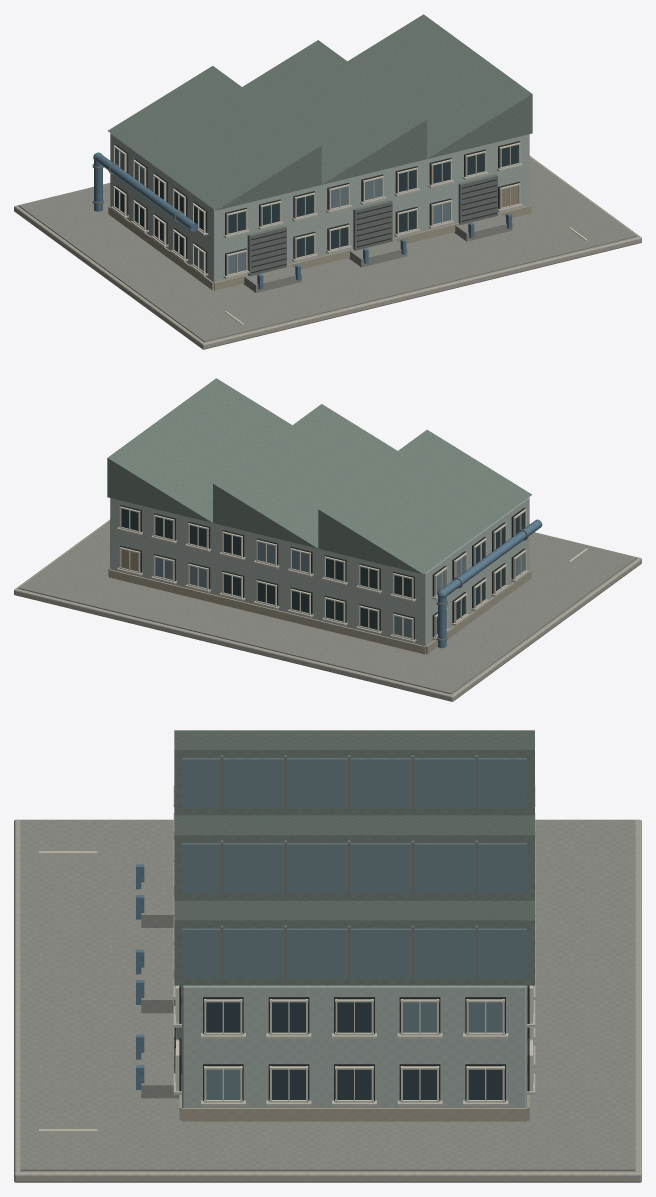
File: EXP_FACTORY_SAW.glb
3 renders of one model, top to bottom at view 1: azimuth 30°, elevation 25°; view 2: azimuth 150°, elevation 25°; view 3: azimuth 270°, elevation 25°, orthographic. The views are drawn at different scales.
Visible parts, largest first — view 1: EXP_FACTORY_SAW_Visual; view 2: EXP_FACTORY_SAW_Visual; view 3: EXP_FACTORY_SAW_Visual.
Boxes of the visible parts, x1,y1,x2,y2 form: EXP_FACTORY_SAW_Visual: (14,14,641,349); EXP_FACTORY_SAW_Visual: (14,378,641,701); EXP_FACTORY_SAW_Visual: (14,730,641,1182).
Size of what is drawn, in the model's own units: 7.92 by 2.22 by 5.92.
14 materials, 7 textured.
